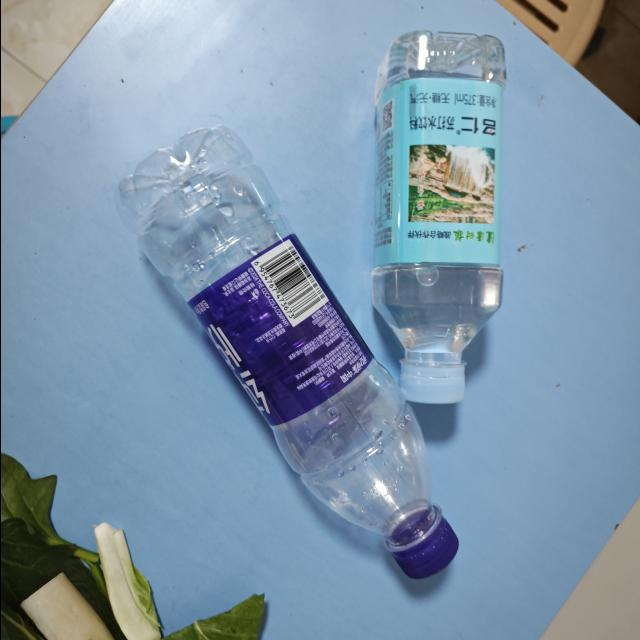-Recyclables - plastic bottle-: (128, 133, 458, 582), (371, 29, 519, 407)
